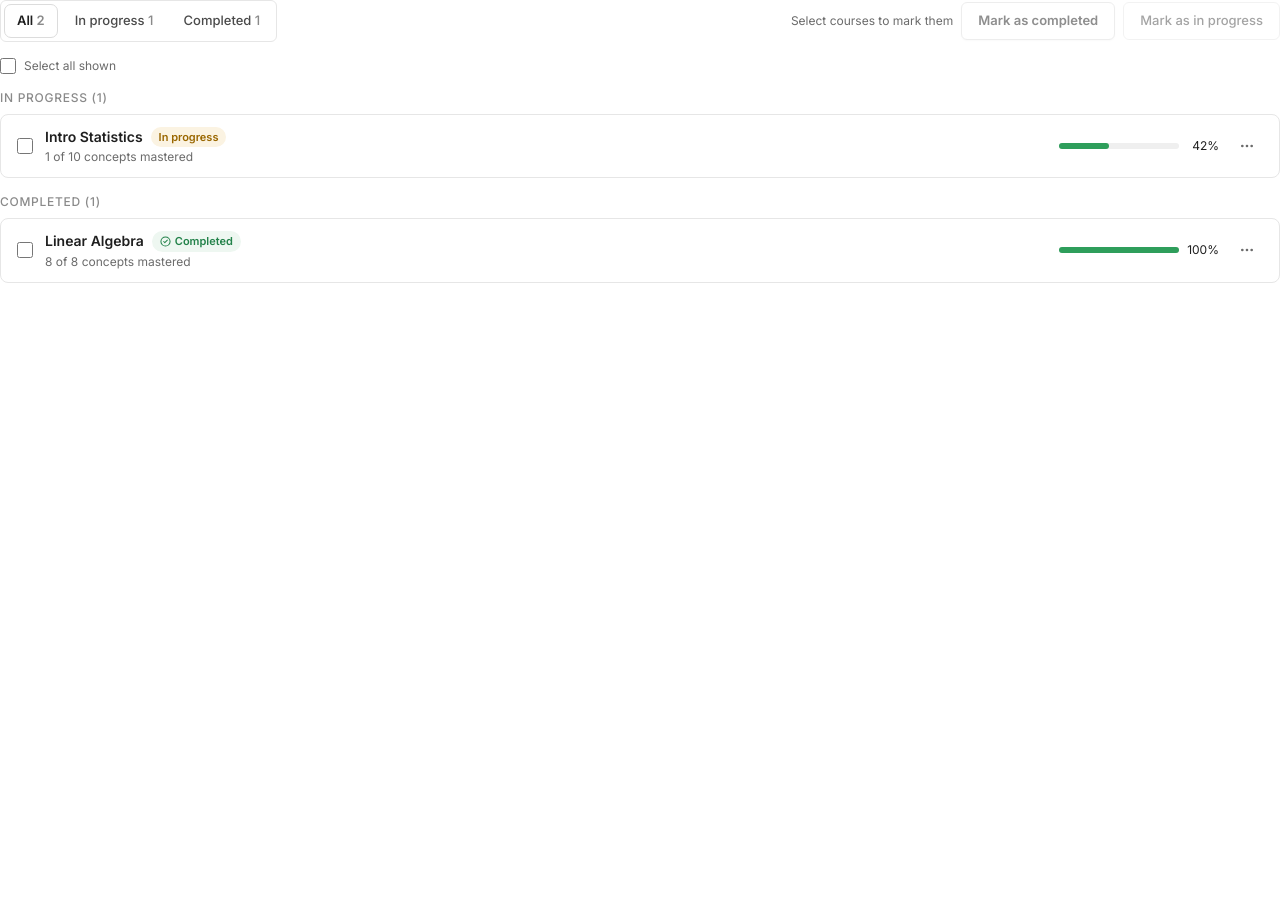
Test: deleting a course › asks first, then deletes and refreshes the list
The width and height of the screenshot is (1280, 900).
Click the button named "Actions for Intro Statistics".
click(1247, 146)  # box x1=1231 y1=130 x2=1263 y2=162
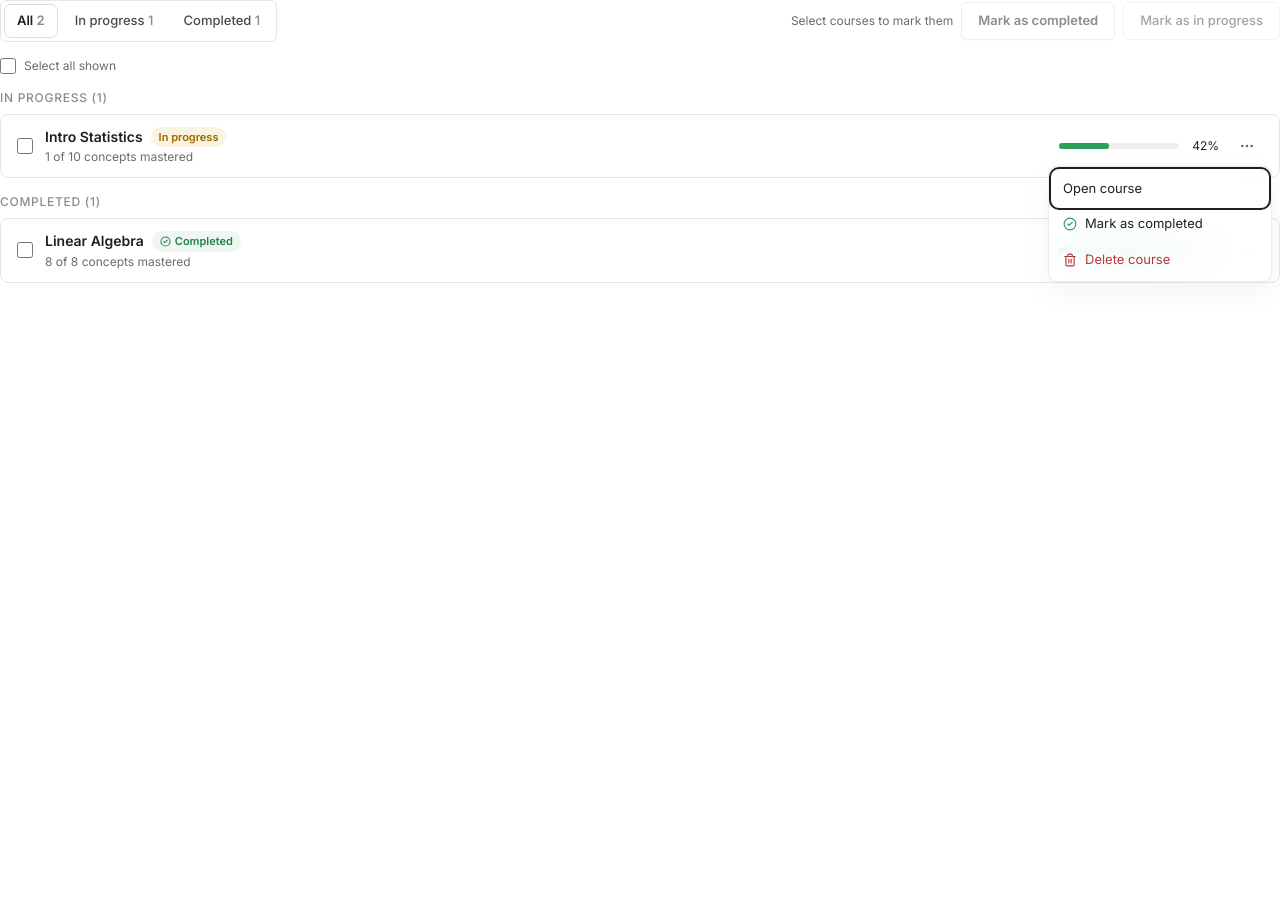
Click the menu item "Delete course".
click(1160, 260)  # box x1=1053 y1=242 x2=1267 y2=277
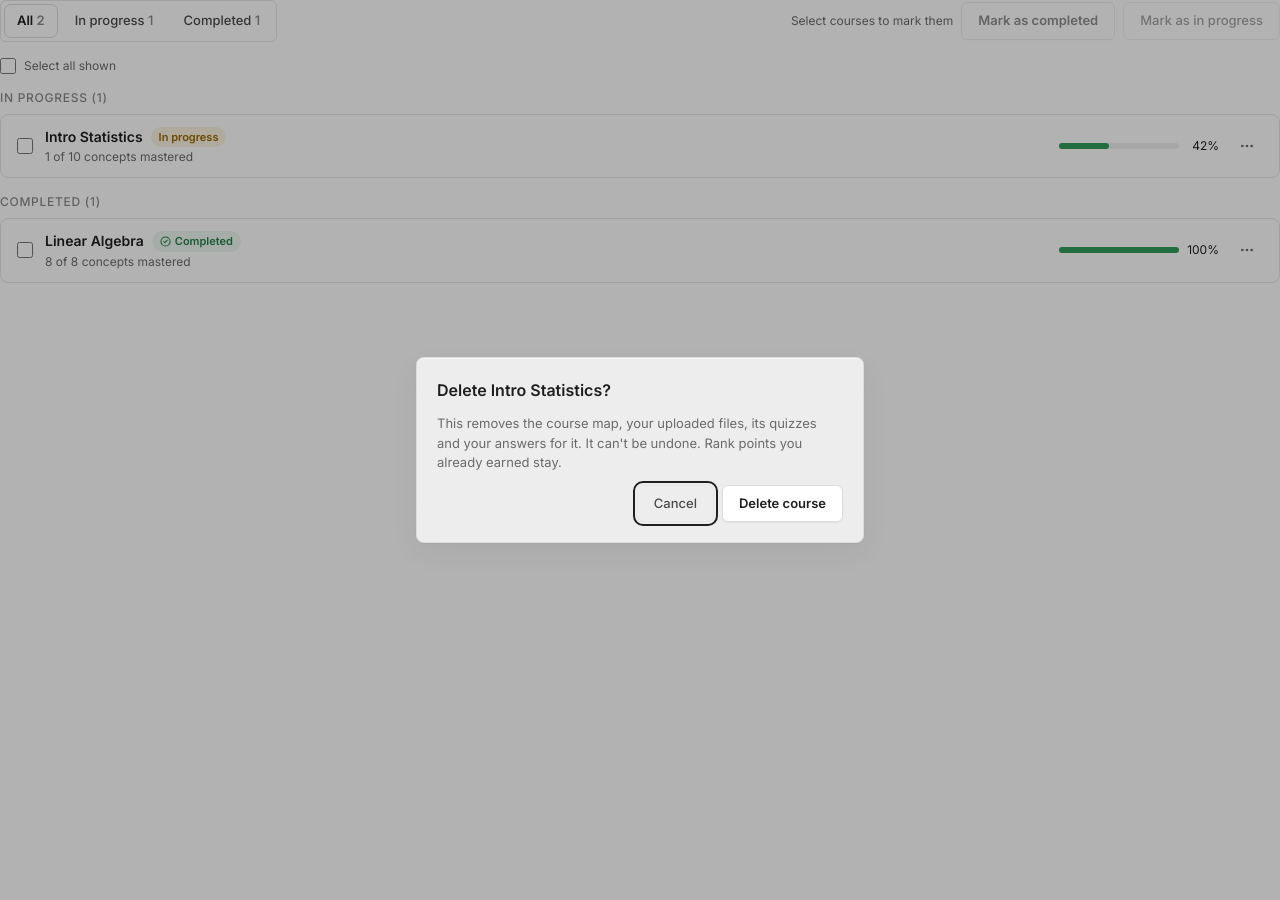
Expected: the dialog shows "Delete Intro Statistics?", x1=416 y1=357 x2=864 y2=543
Click the button "Delete course".
click(782, 503)  # box x1=722 y1=484 x2=843 y2=522
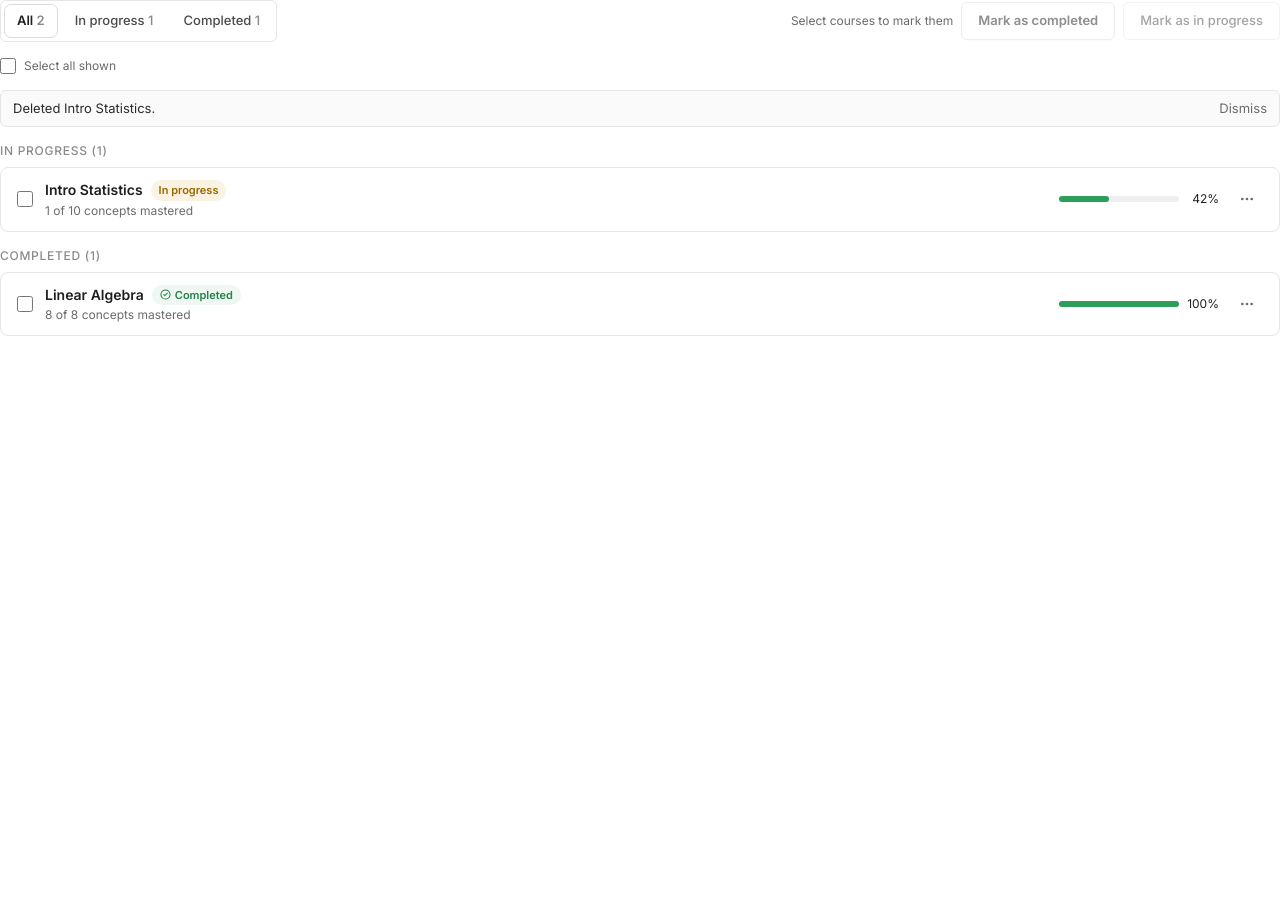
Expected: the text "Deleted Intro Statistics." is shown, x1=13 y1=98 x2=155 y2=118
